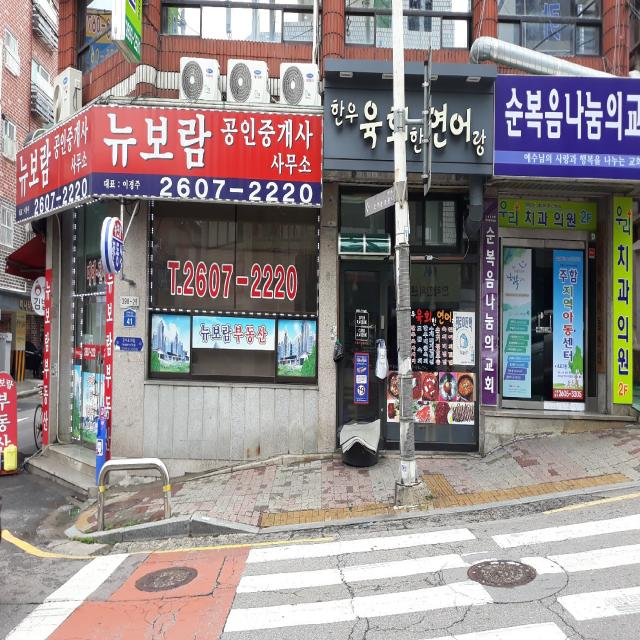횡단보도: (220, 515, 640, 640)
